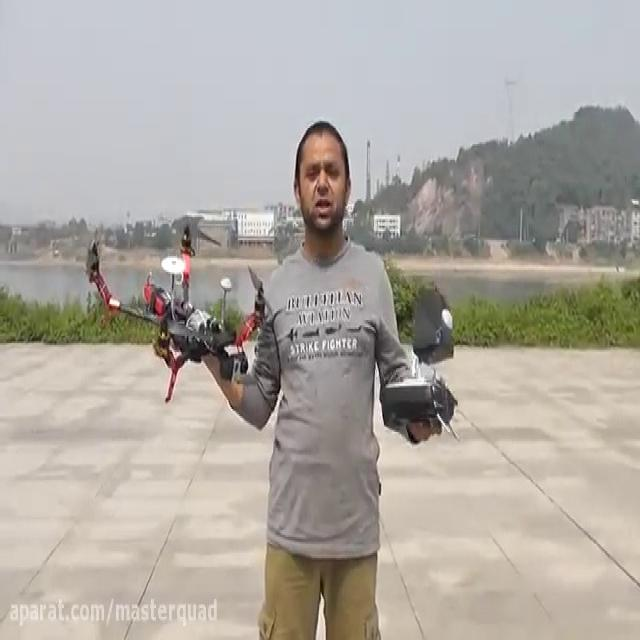drone: (80, 212, 276, 406)
